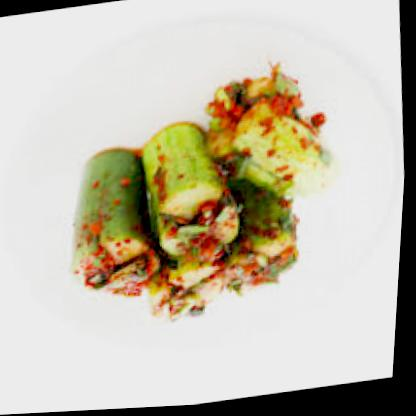cucumber kimchi: (45, 72, 350, 342)
